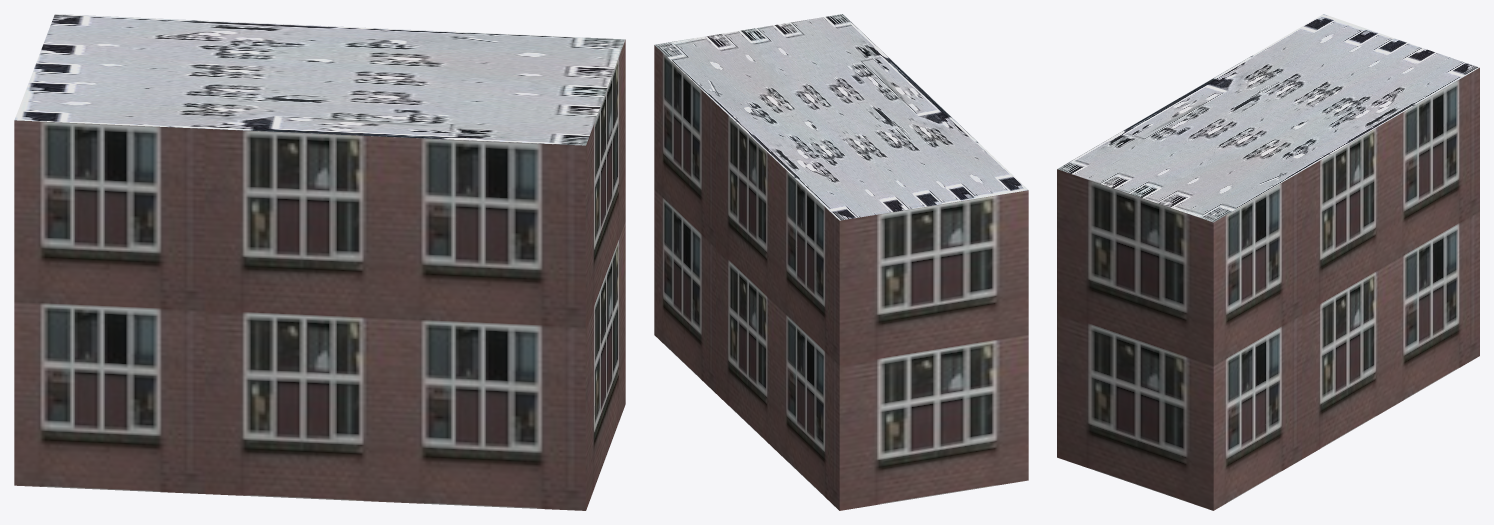
The model's file is ResTex__1083.fbx.
3 views of the same model, side by side, from view 1: azimuth 30°, elevation 25°; view 2: azimuth 150°, elevation 25°; view 3: azimuth 270°, elevation 25° (orthographic). The views are drawn at different scales.
Visible parts, largest first — view 1: CityEngineMaterial_12_m, CityEngineMaterial_8_m; view 2: CityEngineMaterial_12_m, CityEngineMaterial_8_m; view 3: CityEngineMaterial_12_m, CityEngineMaterial_8_m.
Boxes of the visible parts, x1,y1,x2,y2 form: CityEngineMaterial_12_m: [14, 39, 625, 510]; CityEngineMaterial_8_m: [14, 14, 625, 145]; CityEngineMaterial_12_m: [654, 45, 1028, 510]; CityEngineMaterial_8_m: [654, 14, 1028, 220]; CityEngineMaterial_12_m: [1057, 68, 1479, 510]; CityEngineMaterial_8_m: [1057, 14, 1479, 222].
Bounding box in the file's own units: 9.3 × 6 × 7.97.
2 materials, 2 textured.
